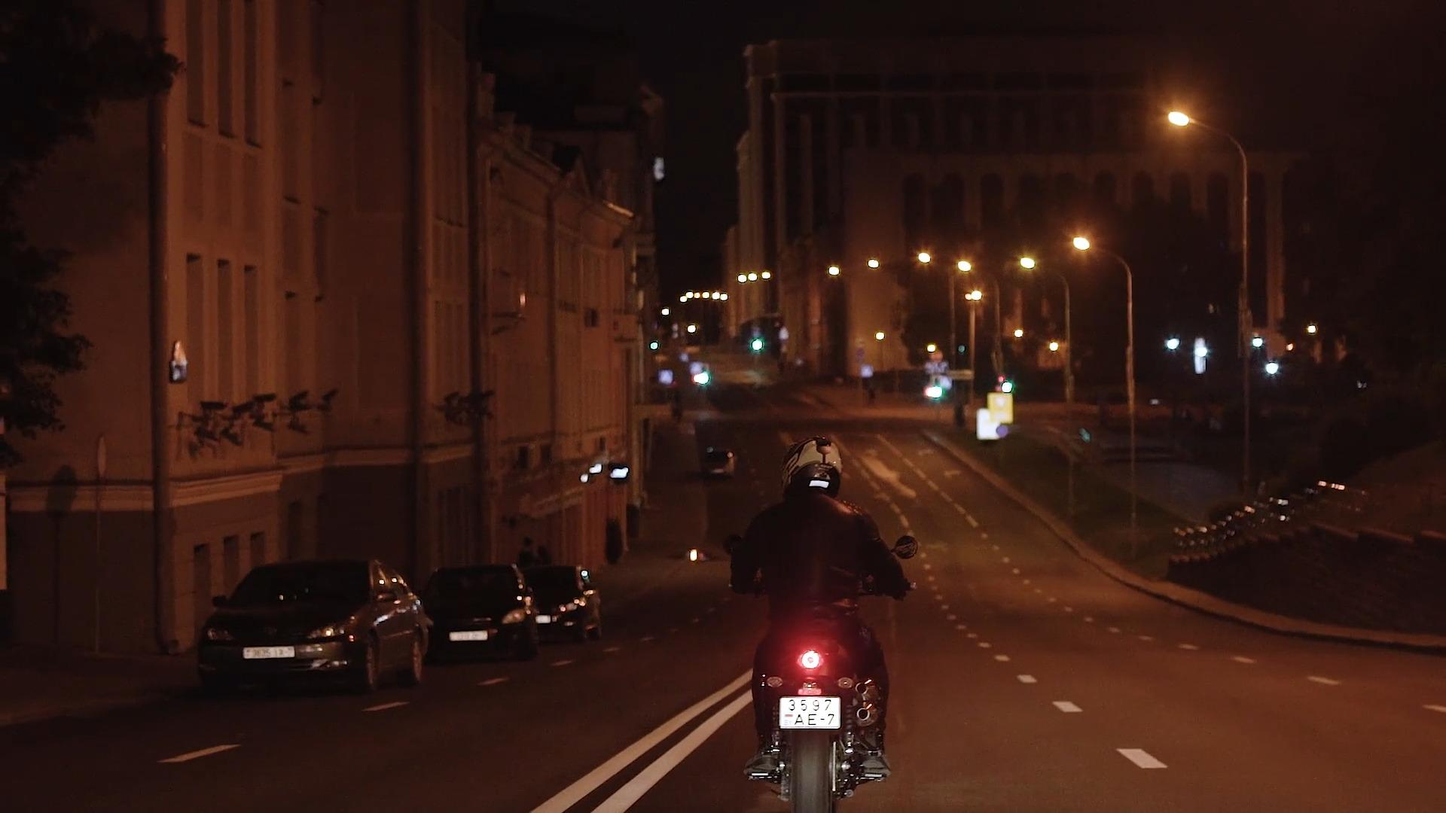driver: (722, 433, 920, 813)
helmet: (781, 435, 843, 499)
